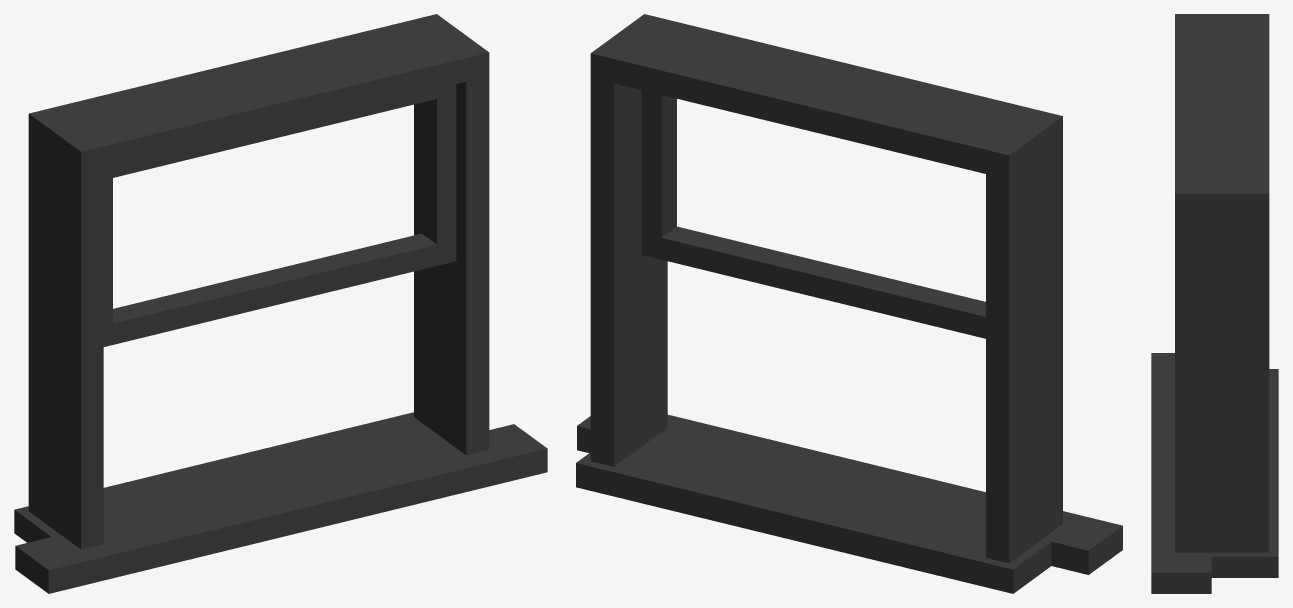
The model's file is Window4_04.fbx.
3 views of the same model, side by side, from view 1: azimuth 30°, elevation 25°; view 2: azimuth 150°, elevation 25°; view 3: azimuth 270°, elevation 25° (orthographic). The views are drawn at different scales.
Parts seen in each view (by area): view 1: Window4_04; view 2: Window4_04; view 3: Window4_04.
Boxes of the visible parts, left/top/right/bottom form: Window4_04: left=14, top=14, right=547, bottom=593; Window4_04: left=576, top=14, right=1122, bottom=593; Window4_04: left=1151, top=14, right=1278, bottom=593.
Size of the model in its own units: 110 by 88.81 by 27.
